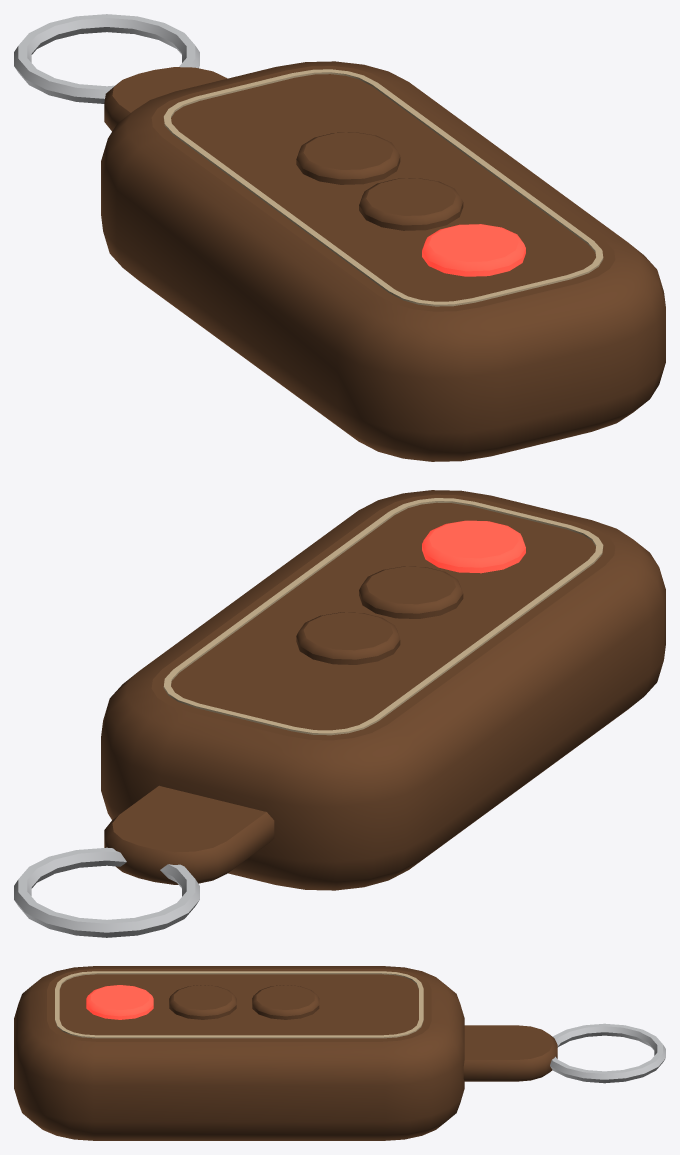
File: nz_keyfob_leather.glb
3 renders of one model, top to bottom at view 1: azimuth 30°, elevation 25°; view 2: azimuth 150°, elevation 25°; view 3: azimuth 270°, elevation 25°, orthographic. The views are drawn at different scales.
Parts seen in each view (by area): view 1: nz_keyfob_leather; view 2: nz_keyfob_leather; view 3: nz_keyfob_leather.
Part boxes in pixels (x1,y1,x2,y2): nz_keyfob_leather: (14,14,665,461); nz_keyfob_leather: (14,490,665,937); nz_keyfob_leather: (14,966,665,1140).
Size of the model in its own units: 0.036 by 0.0173 by 0.0984.
